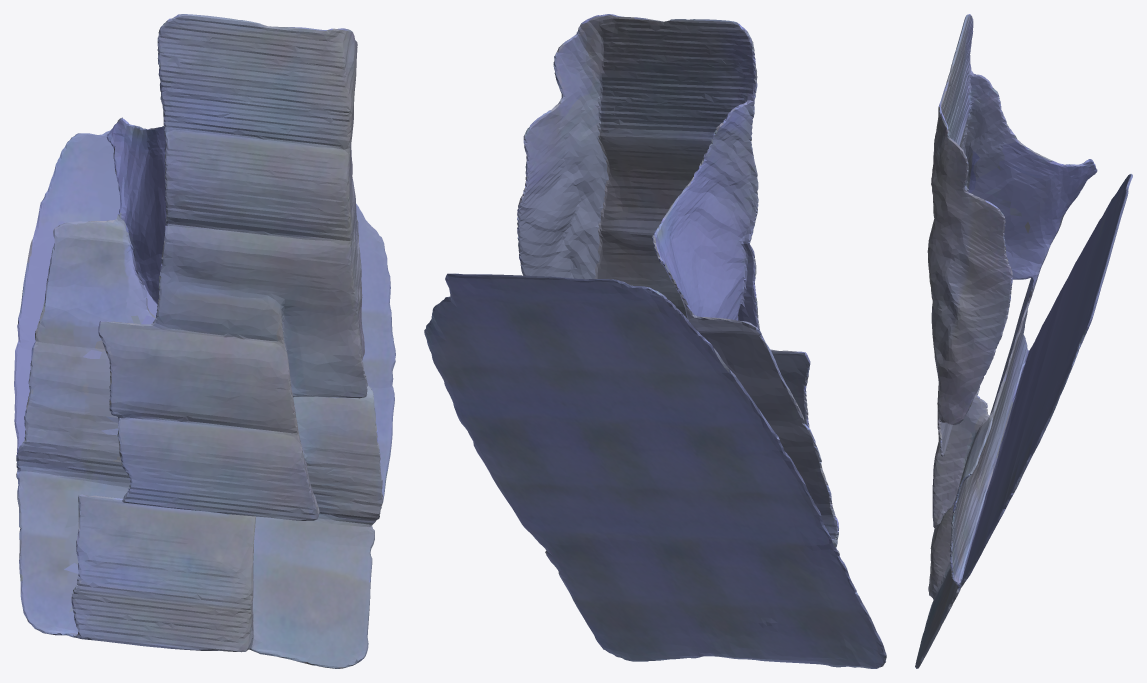
File: 1_sheet_end.glb
The picture shows the model from 3 angles, left to right: view 1: azimuth 30°, elevation 25°; view 2: azimuth 150°, elevation 25°; view 3: azimuth 270°, elevation 25°; orthographic projection. The views are drawn at different scales.
Parts seen in each view (by area): view 1: tmpu_6as7h0.ply; view 2: tmpu_6as7h0.ply; view 3: tmpu_6as7h0.ply.
Part boxes in pixels (<box>): tmpu_6as7h0.ply: <box>14,14,395,668</box>; tmpu_6as7h0.ply: <box>424,14,886,668</box>; tmpu_6as7h0.ply: <box>915,14,1132,668</box>.
Bounding box in the file's own units: 0.1535 × 0.2428 × 0.0811.
1 material, 1 textured.
